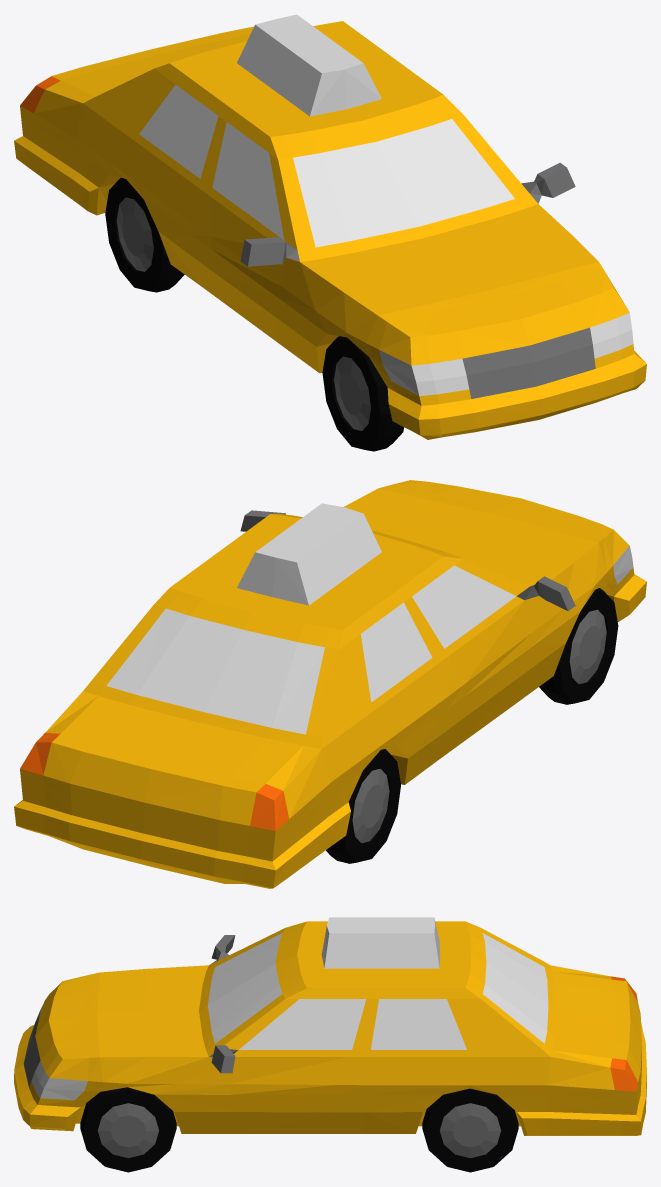
Rendered from Taxi.glb.
3 renders of one model, top to bottom at view 1: azimuth 30°, elevation 25°; view 2: azimuth 150°, elevation 25°; view 3: azimuth 270°, elevation 25°, orthographic. The views are drawn at different scales.
Parts seen in each view (by area): view 1: Taxi; view 2: Taxi; view 3: Taxi.
Part boxes in pixels (x1,y1,x2,y2): Taxi: [14, 14, 646, 451]; Taxi: [14, 480, 646, 888]; Taxi: [14, 917, 646, 1172].
Size of the model in its own units: 52.25 by 39.4 by 111.
1 material, 1 textured.
